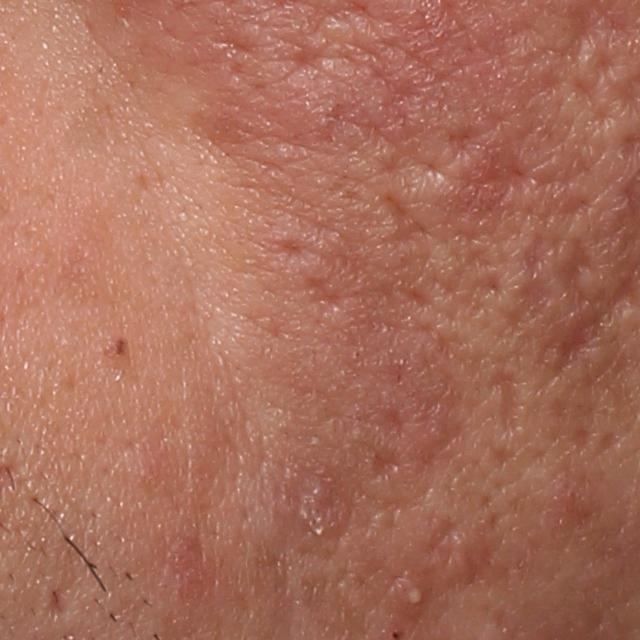atrophic_scar: (378, 181, 436, 258), (300, 266, 355, 323), (488, 366, 520, 441), (363, 437, 409, 485), (261, 233, 317, 263), (42, 582, 79, 622)
nevus: (105, 338, 132, 364)
pustule: (390, 571, 431, 616)
